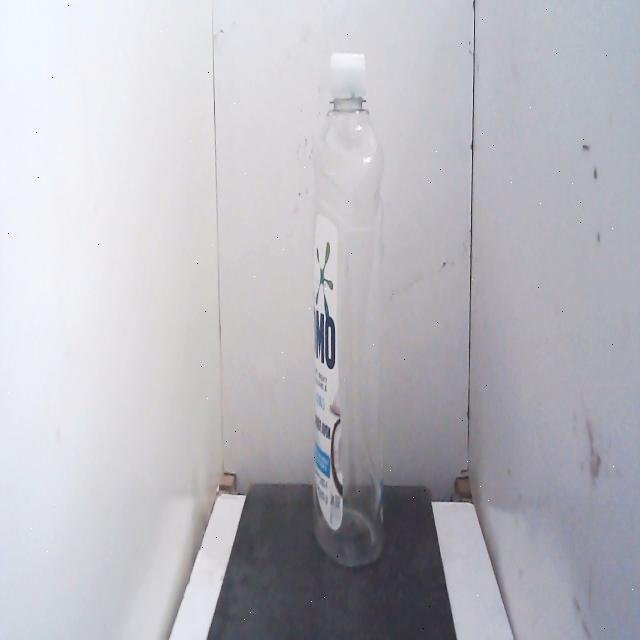plastico: (300, 36, 398, 586)
